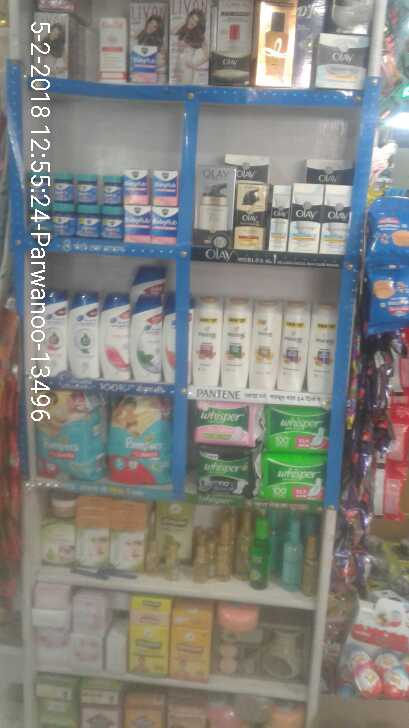vicks: (21, 154, 188, 241)
